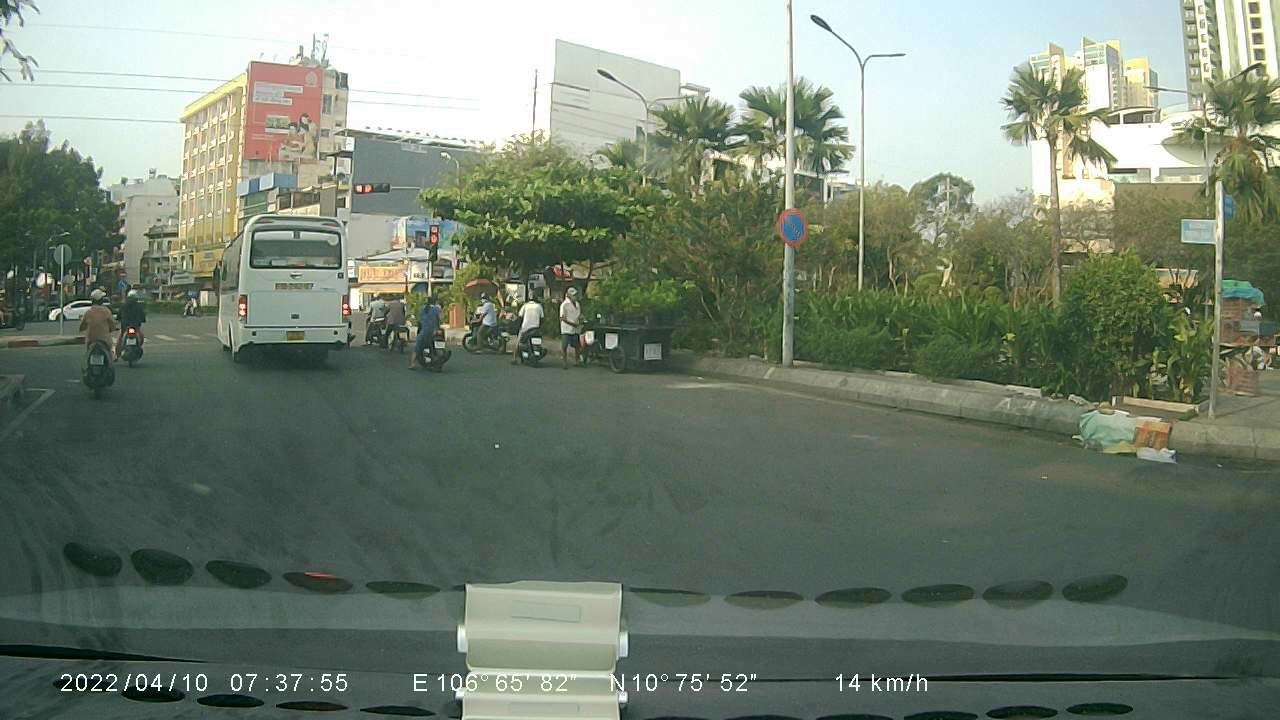Cam do xe: (773, 203, 810, 246)
